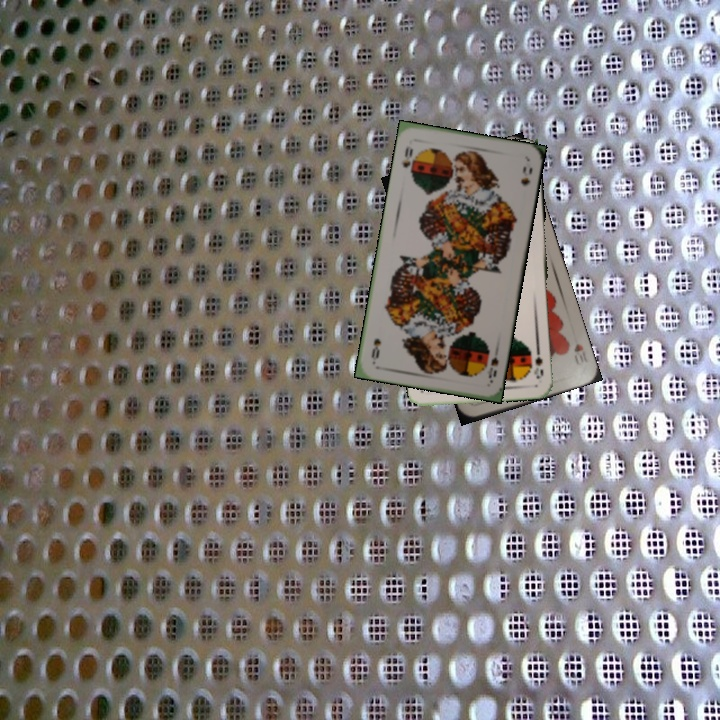H10: (570, 339, 589, 365)
SO: (530, 342, 546, 381), (483, 353, 501, 381), (398, 142, 415, 170)
